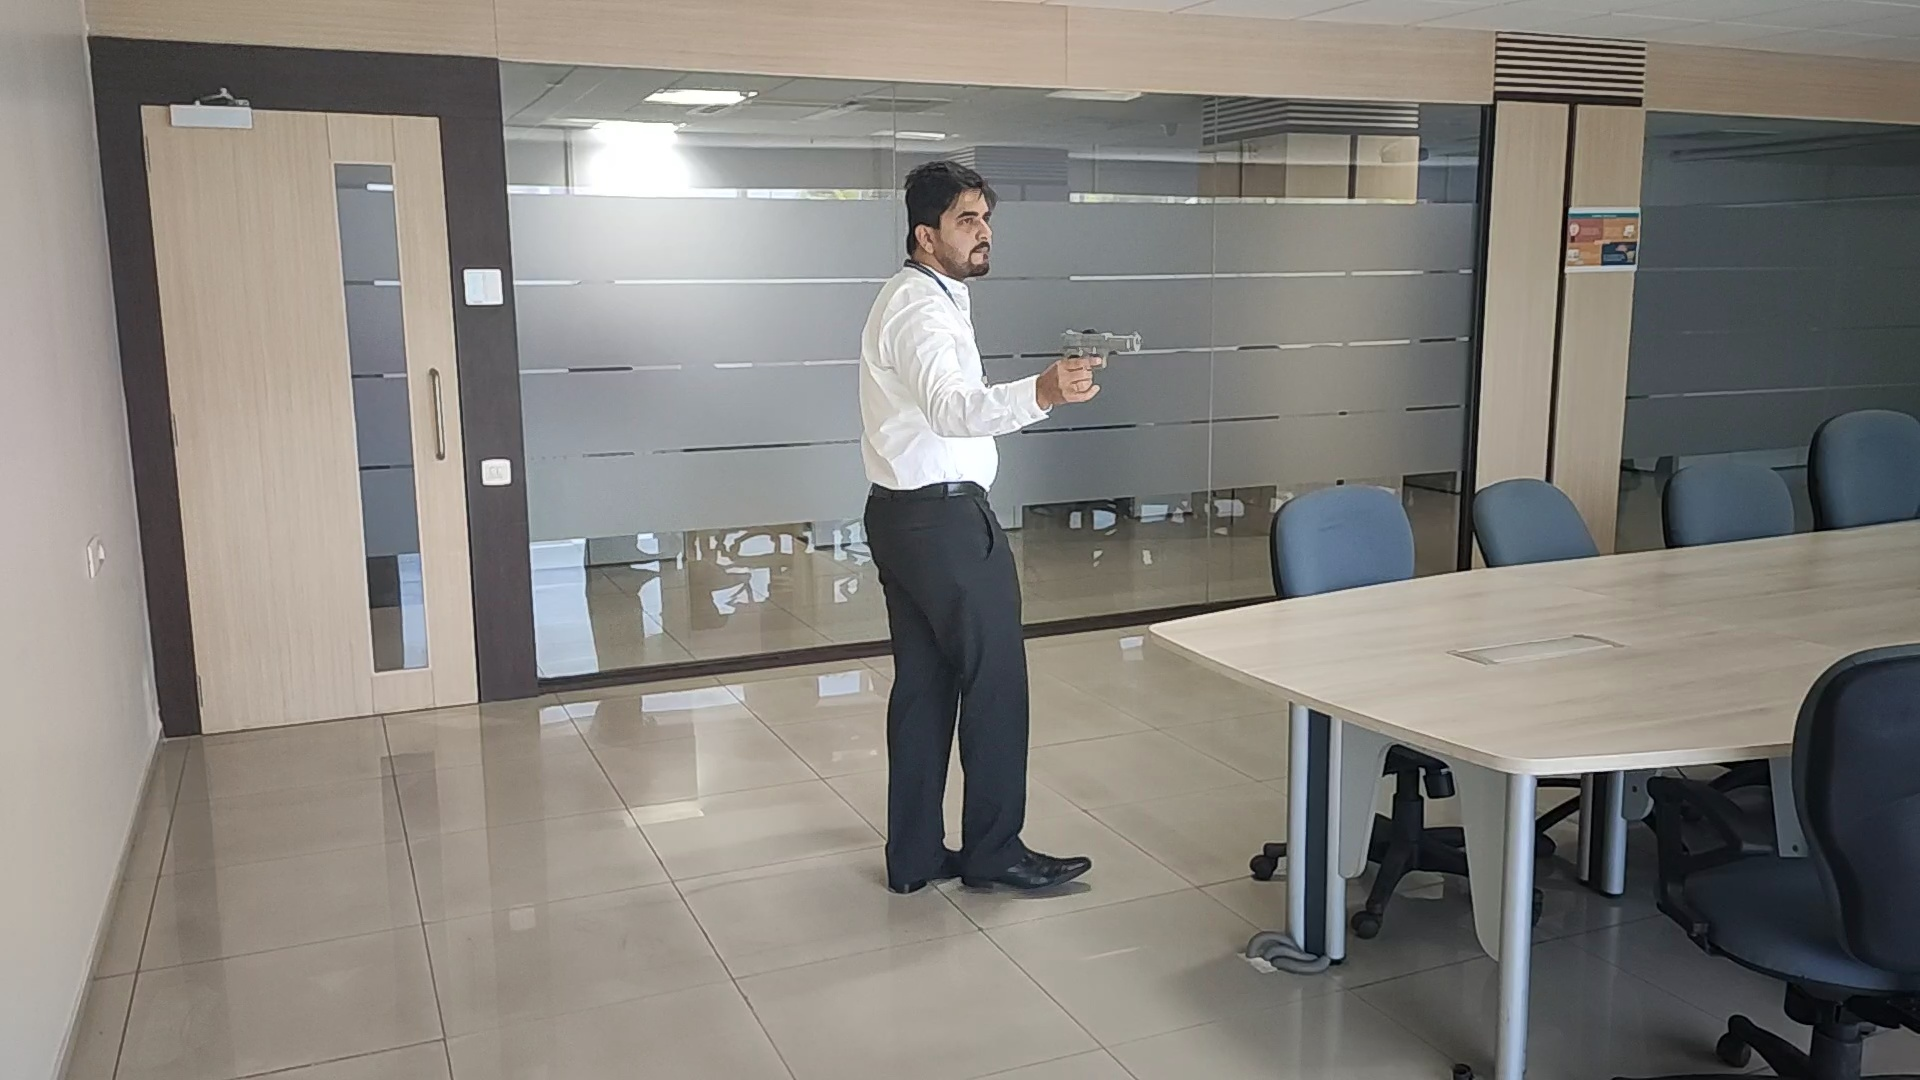gun: (1062, 324, 1145, 367)
